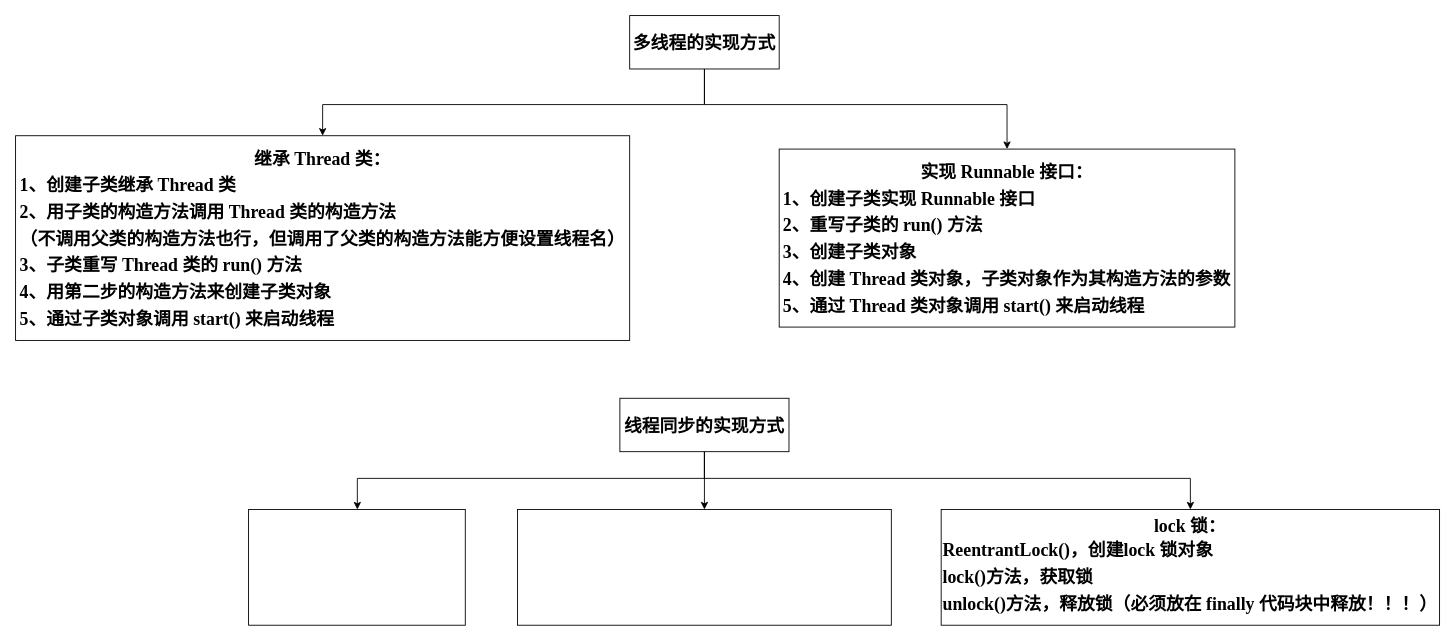
This 1455x641 diagram has some shape labels left out. The box of each missing label's shape, as (x1, y1, x2, y2) in pixels:
同步代码块： synchronized (Object) { // 操作共享数据的代码 }: (248, 509, 465, 625)
同步方法： 修饰符 synchronized 返回值类型 方法名(参数) { // 操作共享资源的方法体 }: (517, 509, 891, 625)
